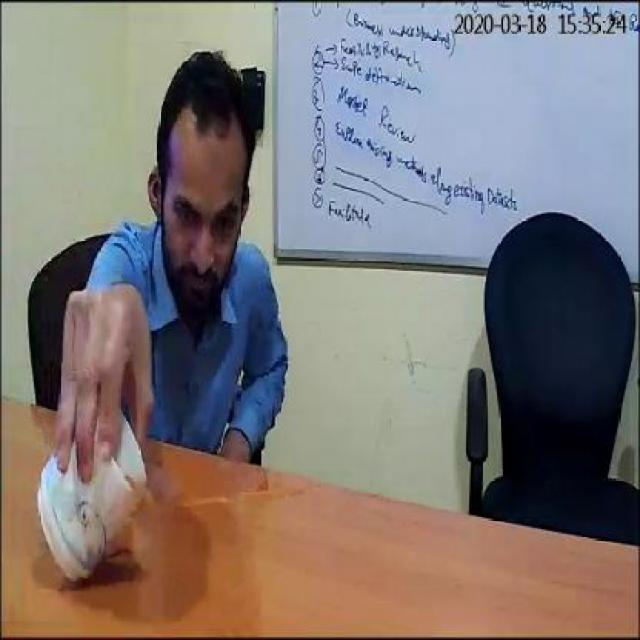spill: (152, 450, 303, 506)
